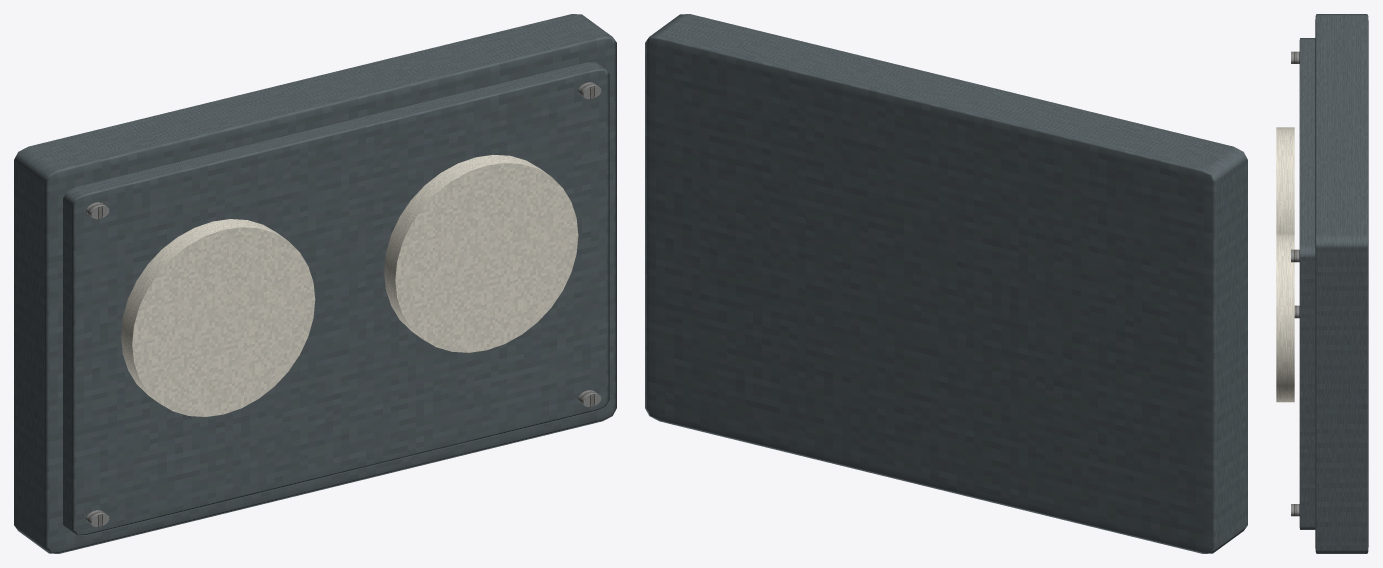
Rendered from equipment-control.glb.
The picture shows the model from 3 angles, left to right: view 1: azimuth 30°, elevation 25°; view 2: azimuth 150°, elevation 25°; view 3: azimuth 270°, elevation 25°; orthographic projection. The views are drawn at different scales.
Visible parts, largest first — view 1: face, gauge (×2), back; view 2: back; view 3: back, face, gauge (×2).
Part boxes in pixels (<box>): face: <box>63,62,609,535</box>; gauge (×2): <box>121,154,578,416</box>; back: <box>14,14,616,553</box>; back: <box>645,14,1247,553</box>; back: <box>1315,14,1368,553</box>; face: <box>1299,38,1315,529</box>; gauge (×2): <box>1276,127,1294,402</box>.
Bounding box in the file's own units: 0.42 × 0.27 × 0.0713.
Materials: 3 (3 with a texture image).
